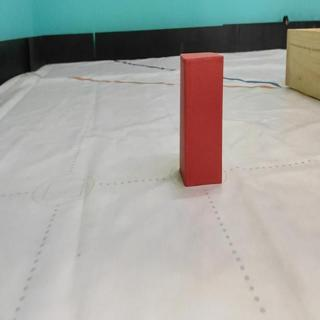redbox: (177, 51, 224, 187)
